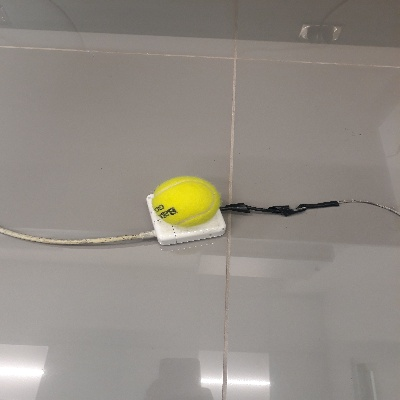Ball: (151, 175, 221, 227)
